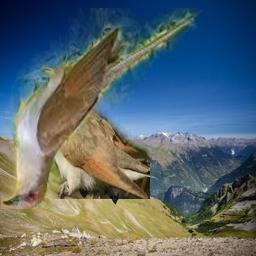Cuckoo: (1, 8, 203, 209), (42, 65, 150, 199)
